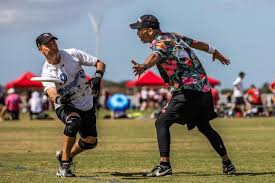disc: (30, 75, 60, 83)
